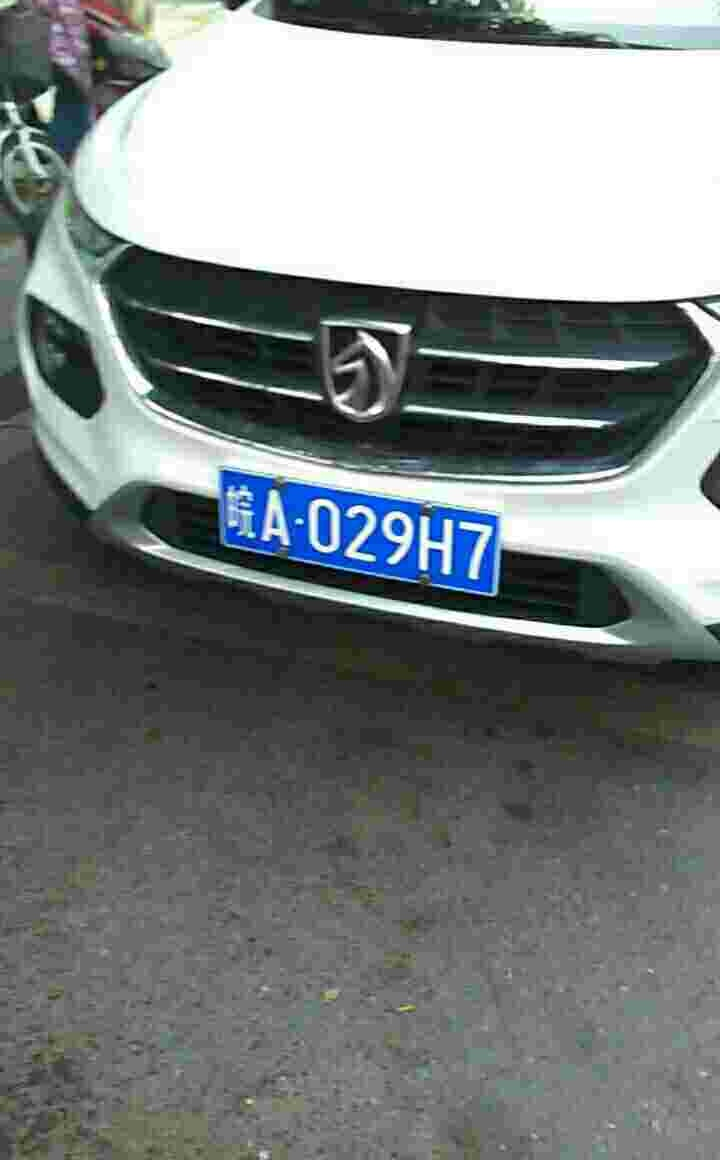license_plate: (210, 468, 512, 605)
